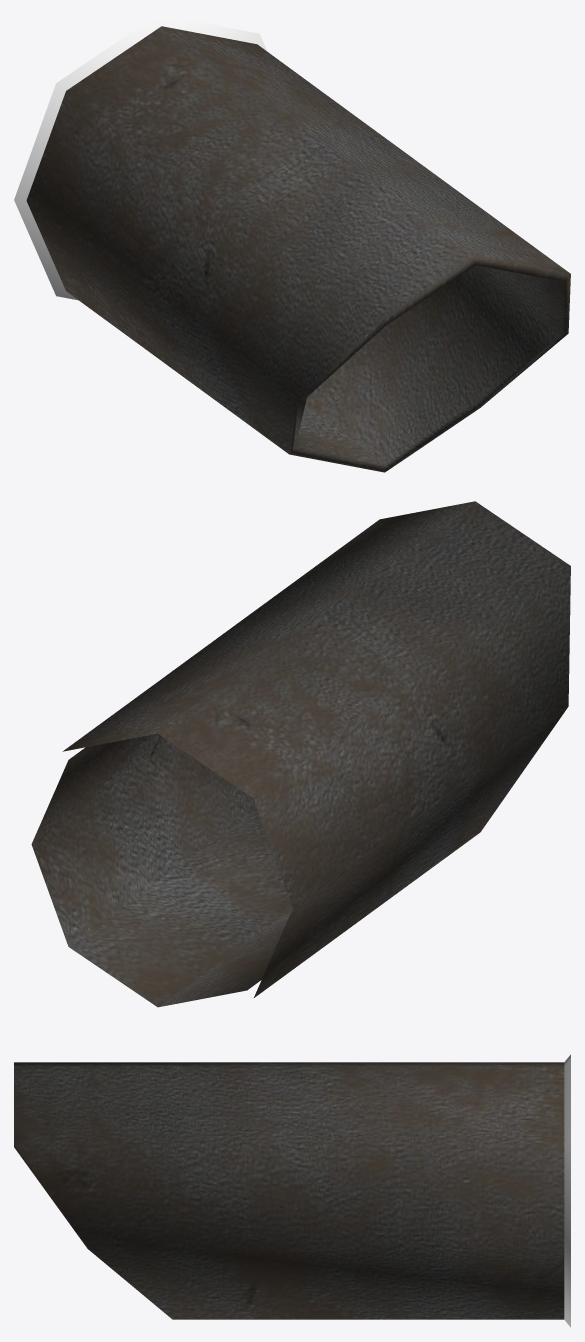
File: redSpot.glb
3 renders of one model, top to bottom at view 1: azimuth 30°, elevation 25°; view 2: azimuth 150°, elevation 25°; view 3: azimuth 270°, elevation 25°, orthographic. The views are drawn at different scales.
Visible parts, largest first — view 1: metal_rusted.jpg__, gfxGlow_red_a.png__; view 2: metal_rusted.jpg__; view 3: metal_rusted.jpg__, gfxGlow_red_a.png__.
Part boxes in pixels (x1=…): metal_rusted.jpg__: x1=26, y1=26, x2=570, y2=472; gfxGlow_red_a.png__: x1=14, y1=14, x2=267, y2=300; metal_rusted.jpg__: x1=31, y1=501, x2=570, y2=1007; metal_rusted.jpg__: x1=14, y1=1062, x2=564, y2=1319; gfxGlow_red_a.png__: x1=564, y1=1054, x2=570, y2=1327.
Size of the model in its own units: 0.4768 by 0.4768 by 0.9115.
Materials: 2 (1 with a texture image).
